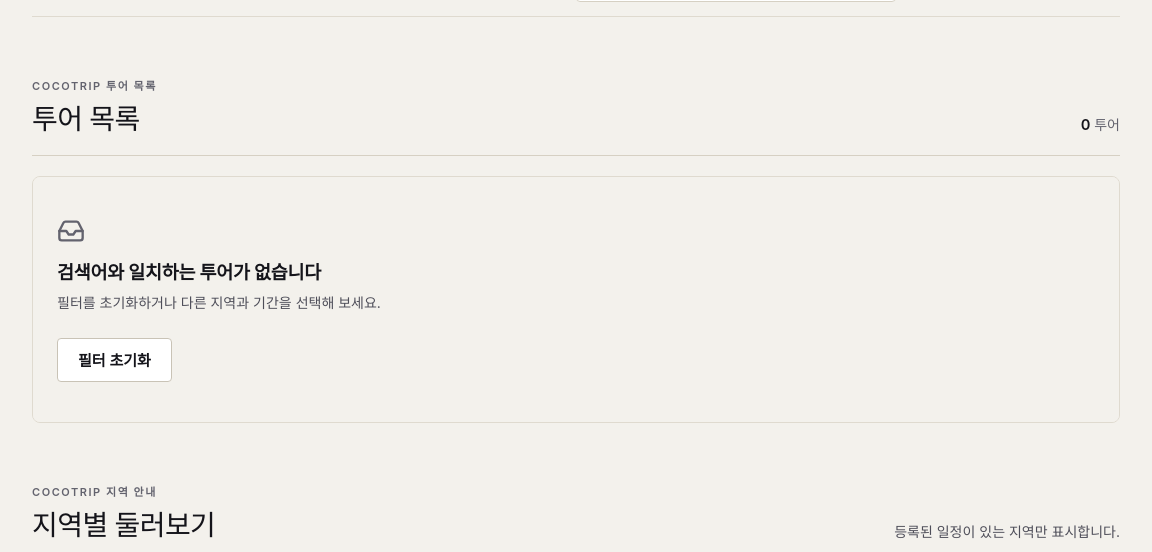
목록 전체 — Korea Editorial Concierge 문서형 셸 › 검색 조건 URL 복원 › 전체 필터 초기화는 q/region/sort 만 지우고 다른 parameter 는 유지한다
(page scrolled)
Click the button "필터 초기화" at (114, 360), box [57,338,172,382]
(page scrolled)
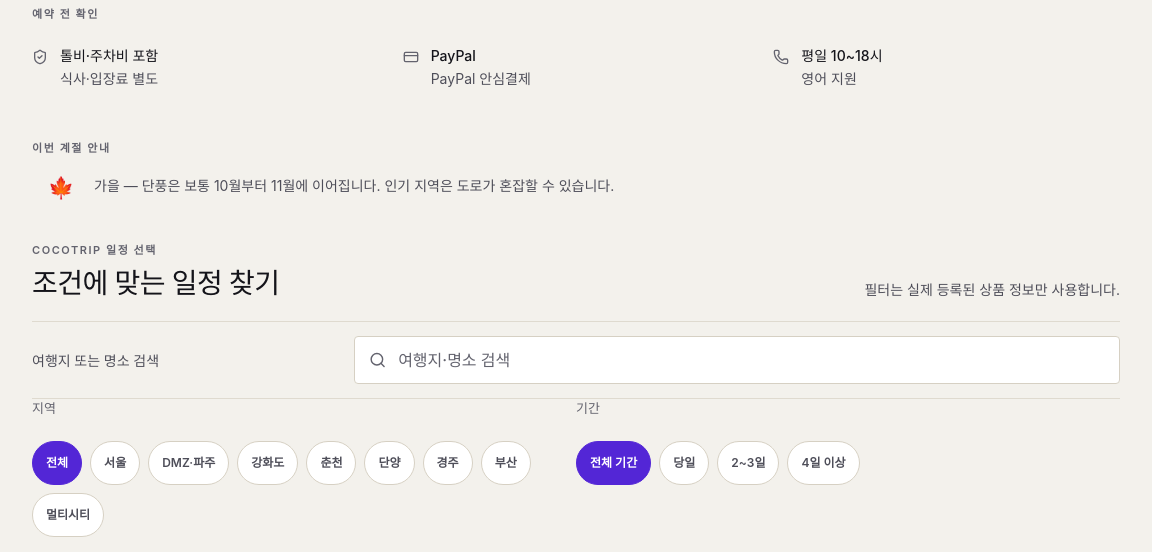
expect the search field labelled "여행지 또는 명소 검색" is empty: met, box [386,338,1119,382]
